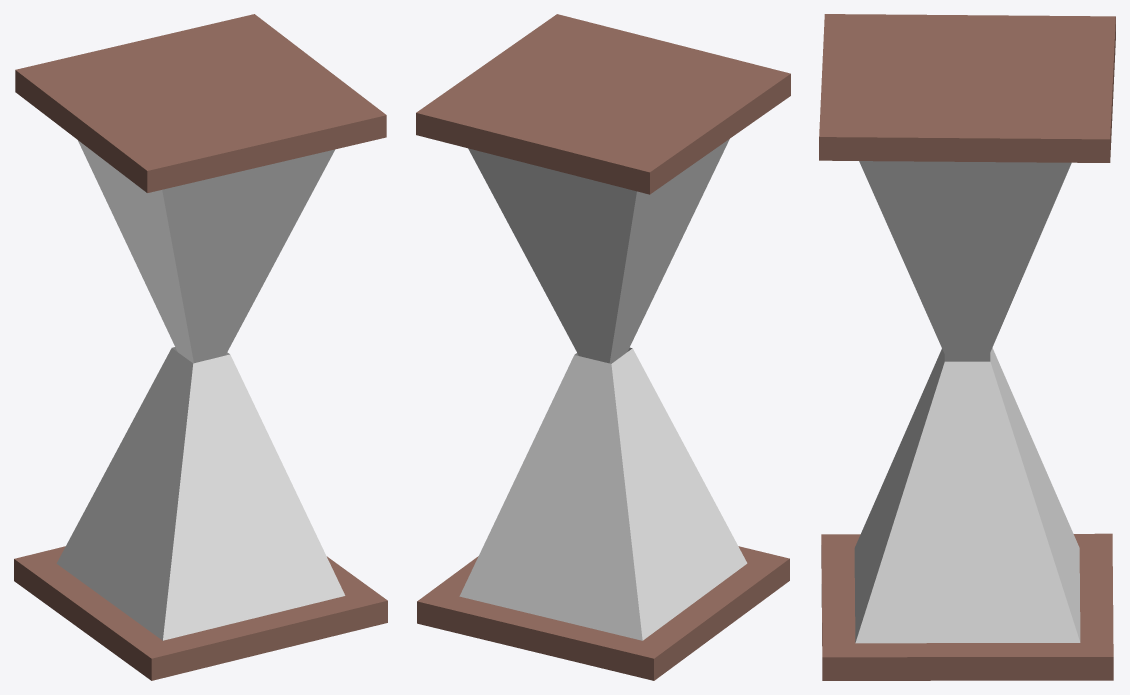
File: prop_096.glb
3 renders of one model, left to right at view 1: azimuth 30°, elevation 25°; view 2: azimuth 150°, elevation 25°; view 3: azimuth 270°, elevation 25°, orthographic. The views are drawn at different scales.
Parts seen in each view (by area): view 1: prop_096; view 2: prop_096; view 3: prop_096.
Boxes of the visible parts, left/top/right/bottom form: prop_096: left=14, top=14, right=387, bottom=680; prop_096: left=416, top=14, right=790, bottom=680; prop_096: left=819, top=14, right=1115, bottom=680.
Size of the model in its own units: 0.1707 by 0.3444 by 0.1707.
1 material, 1 textured.
